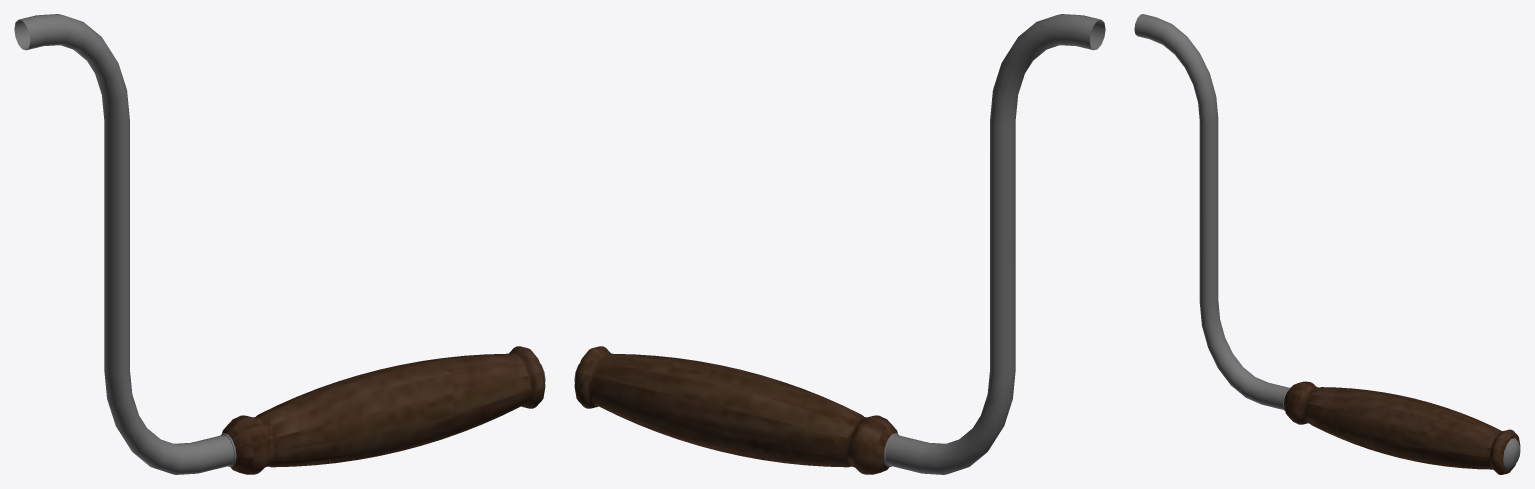
Rendered from handle.obj.
3 views of the same model, side by side, from view 1: azimuth 30°, elevation 25°; view 2: azimuth 150°, elevation 25°; view 3: azimuth 330°, elevation 25° (orthographic). The views are drawn at different scales.
Visible parts, largest first — view 1: Mesh12_Group13_Group12_Group8_Model_Mesh12_Group13_Group12_Group; view 2: Mesh12_Group13_Group12_Group8_Model_Mesh12_Group13_Group12_Group; view 3: Mesh12_Group13_Group12_Group8_Model_Mesh12_Group13_Group12_Group.
Part boxes in pixels (x1=…): Mesh12_Group13_Group12_Group8_Model_Mesh12_Group13_Group12_Group: x1=14, y1=14, x2=545, y2=474; Mesh12_Group13_Group12_Group8_Model_Mesh12_Group13_Group12_Group: x1=574, y1=14, x2=1105, y2=474; Mesh12_Group13_Group12_Group8_Model_Mesh12_Group13_Group12_Group: x1=1134, y1=14, x2=1520, y2=474.
Bounding box in the file's own units: 0.0983 × 0.0943 × 0.0139.
Materials: 3 (1 with a texture image).
